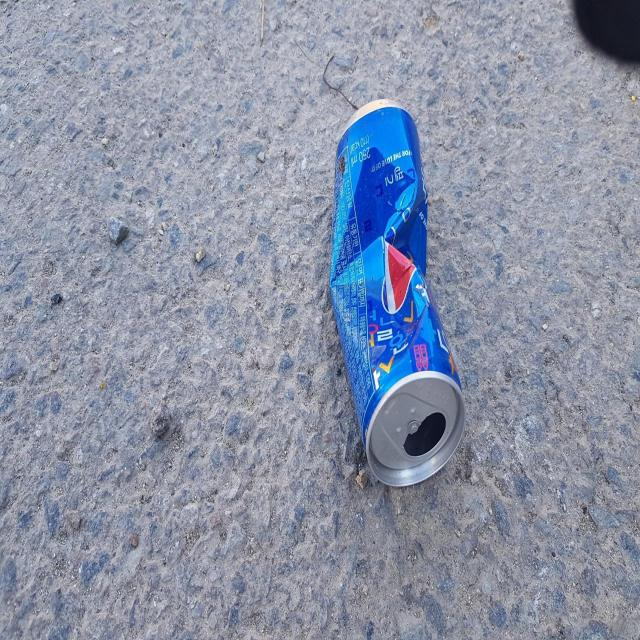can: (330, 98, 466, 486)
